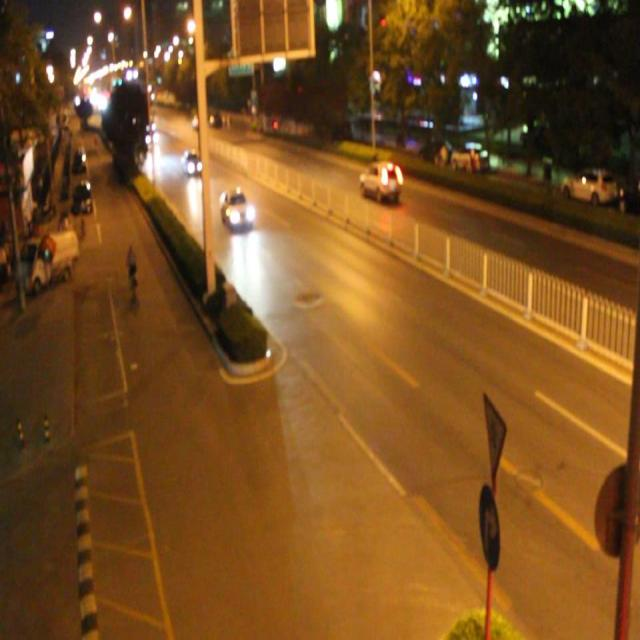car: (359, 162, 401, 202), (219, 187, 253, 231), (180, 148, 203, 176), (141, 128, 159, 149), (190, 112, 204, 130)
